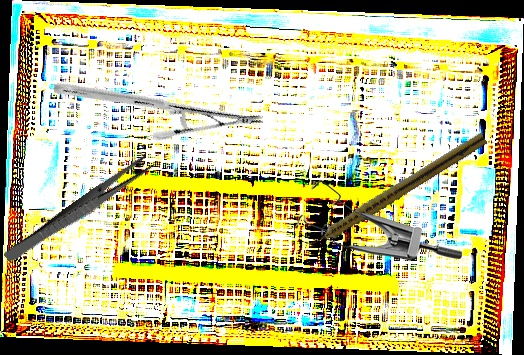Dressing Forceps: (2, 153, 155, 268)
Handpiece: (302, 128, 489, 254)
Needle Holder: (52, 21, 265, 187)
Speculum: (296, 179, 462, 262)
